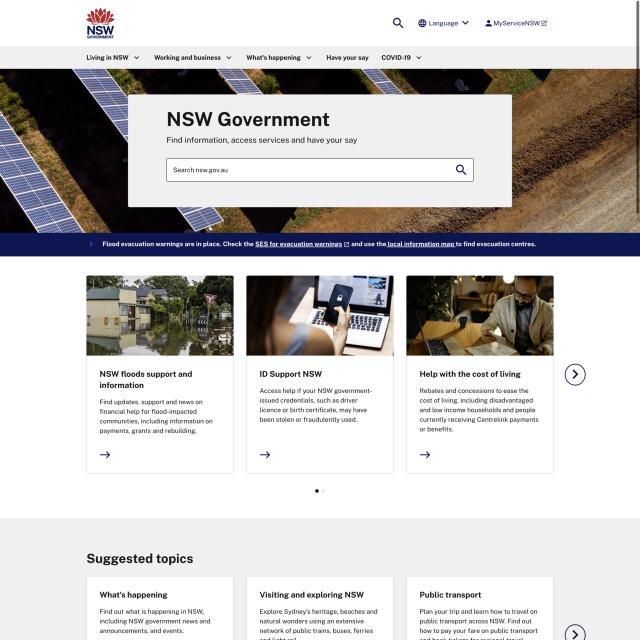CheckBox: (483, 18, 553, 32)
CheckedTextView: (165, 157, 476, 183)
ProgressBar: (0, 230, 640, 258)
Spinner: (86, 275, 234, 476), (246, 275, 394, 476), (406, 274, 554, 475)
Switch: (82, 272, 589, 479)
alert: (153, 52, 233, 62), (416, 16, 472, 30), (245, 52, 312, 62), (85, 52, 142, 62), (381, 52, 423, 62)
bag: (0, 0, 635, 68)
card: (0, 68, 639, 232)
carousel: (392, 15, 405, 30)
date picker: (81, 4, 120, 42)
decoration: (83, 51, 426, 64)
dropdown: (309, 484, 330, 495)
image: (163, 109, 333, 131)
